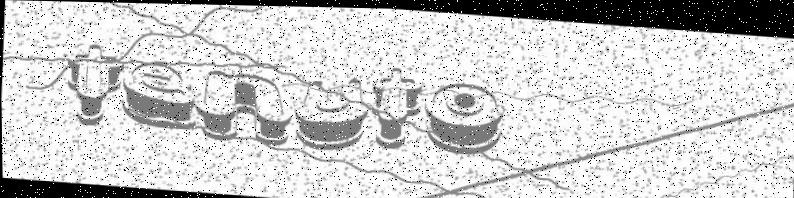e: (121, 59, 199, 132)
n: (195, 64, 295, 147)
o: (421, 74, 505, 154)
t: (367, 61, 424, 151), (65, 40, 125, 124)
u: (292, 72, 369, 151)
